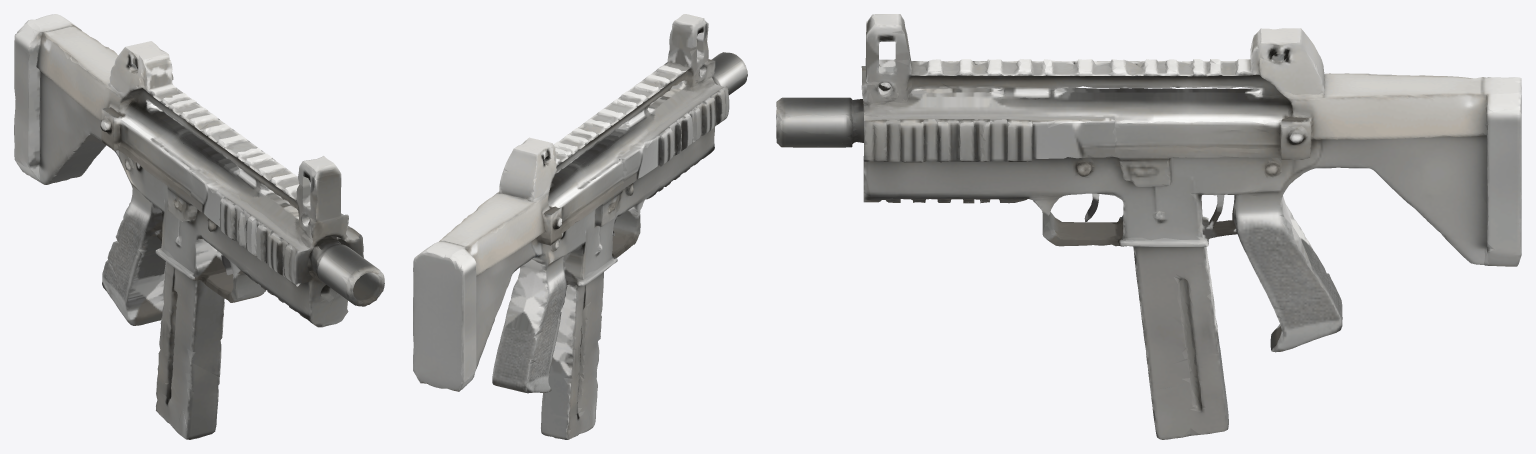
The model's file is SMG Assault Weapons.glb.
3 views of the same model, side by side, from view 1: azimuth 30°, elevation 25°; view 2: azimuth 150°, elevation 25°; view 3: azimuth 270°, elevation 25° (orthographic). The views are drawn at different scales.
Parts seen in each view (by area): view 1: model; view 2: model; view 3: model.
Boxes of the visible parts, x1,y1,x2,y2 form: model: (14,14,384,439); model: (413,14,747,439); model: (776,14,1521,439).
Size of the model in its own units: 0.2502 by 1.16 by 1.9.
1 material, 1 textured.
